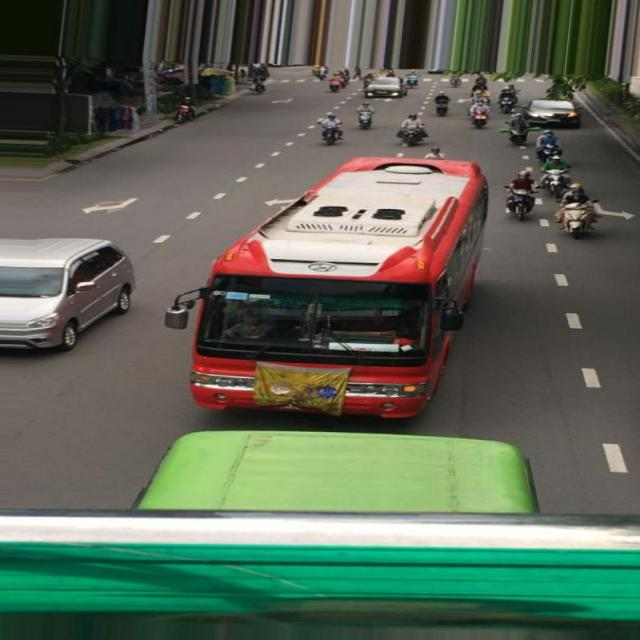bus: (177, 154, 488, 422)
car: (0, 235, 135, 353), (526, 99, 582, 132)
motorcycle: (557, 199, 601, 238), (505, 186, 538, 219), (322, 115, 343, 145), (469, 105, 488, 129)
